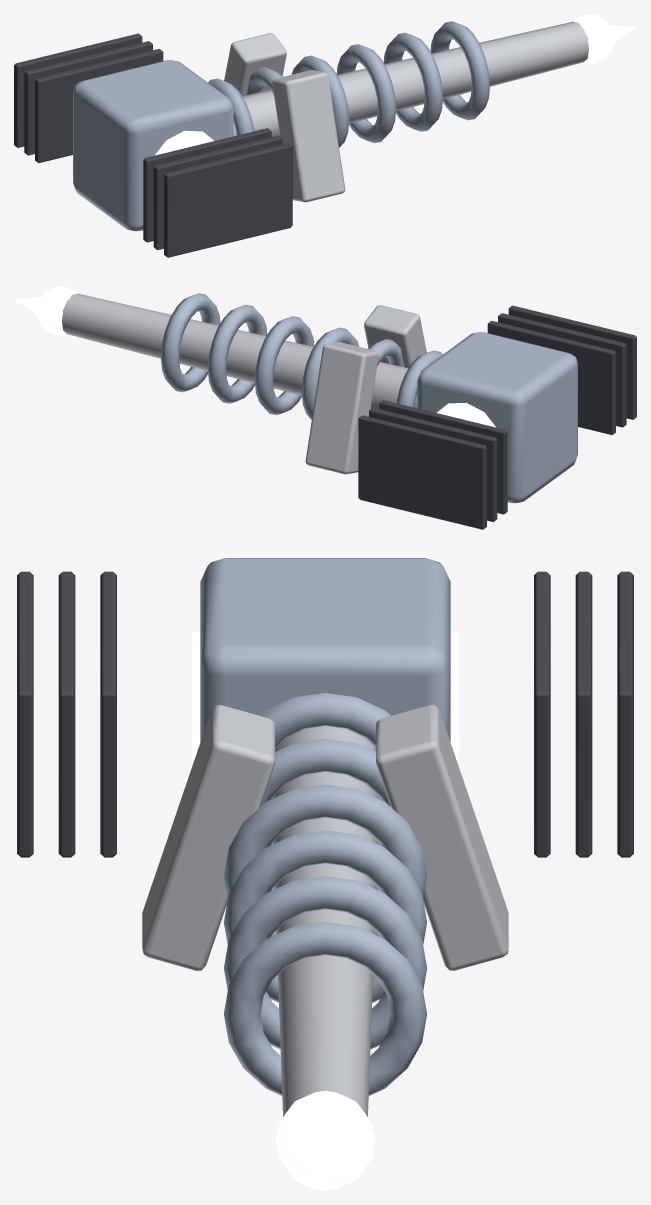
Rendered from lance.glb.
3 views of the same model, one above another, from view 1: azimuth 30°, elevation 25°; view 2: azimuth 150°, elevation 25°; view 3: azimuth 270°, elevation 25° (orthographic). The views are drawn at different scales.
Parts seen in each view (by area): view 1: lance; view 2: lance; view 3: lance.
Boxes of the visible parts, x1=… form: lance: x1=14, y1=14, x2=636, y2=257; lance: x1=14, y1=286, x2=636, y2=529; lance: x1=17, y1=558, x2=633, y2=1190.
Size of the model in its own units: 1.52 by 0.3043 by 0.74.
